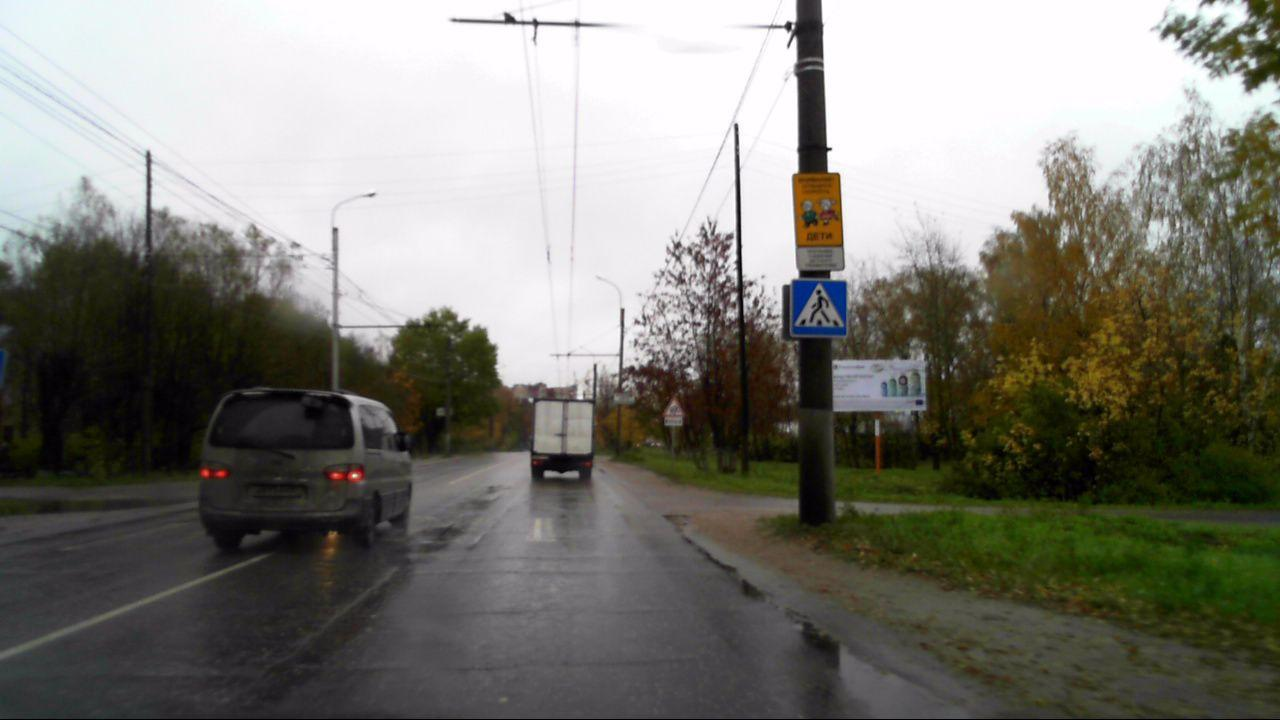road_sign: (792, 277, 850, 338)
